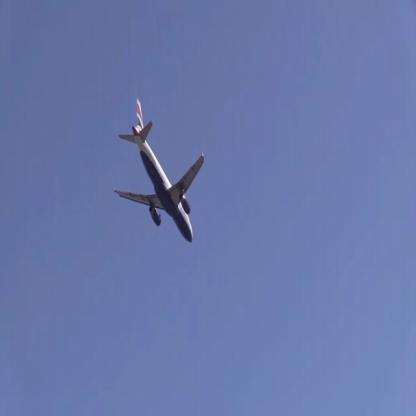CIV_Plane: (112, 97, 206, 243)
